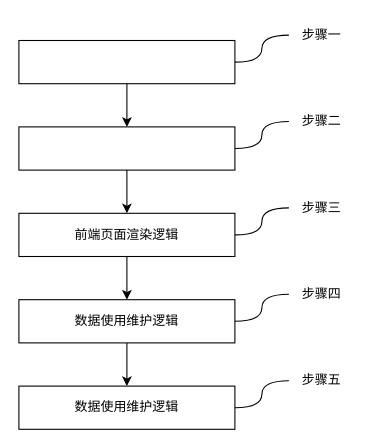
The diagram is 373 pixels wide and 448 high, and some of its shapes have lost their labels. Each missing label, with the centre of its shape:
"数据获取及联动关系定义" belongs at (x=126, y=148).
"模型梳理定义" belongs at (x=126, y=61).
